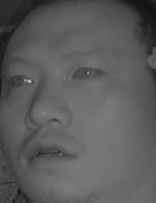eye: (71, 62, 103, 83), (5, 70, 36, 90)
mouth: (23, 134, 83, 170)
